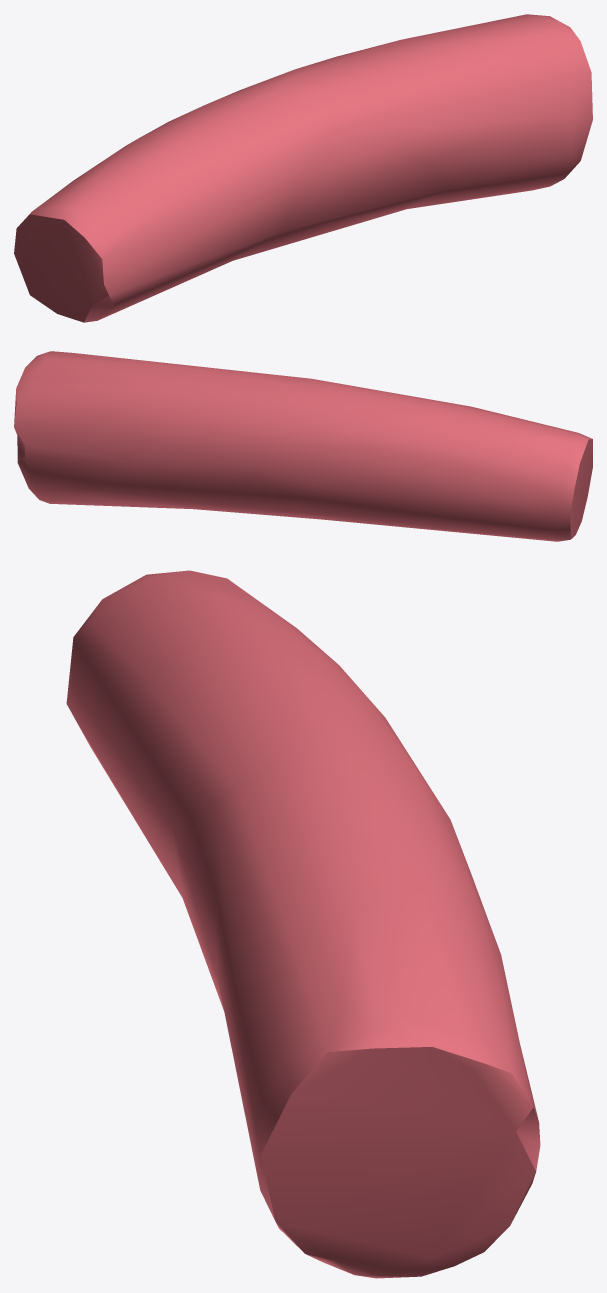
The model's file is fma8627_fj6068.glb.
3 views of the same model, one above another, from view 1: azimuth 30°, elevation 25°; view 2: azimuth 150°, elevation 25°; view 3: azimuth 270°, elevation 25° (orthographic). The views are drawn at different scales.
Parts seen in each view (by area): view 1: FMA8627_FJ6068; view 2: FMA8627_FJ6068; view 3: FMA8627_FJ6068.
Part boxes in pixels (x1,y1,x2,y2): FMA8627_FJ6068: (14, 14, 592, 322); FMA8627_FJ6068: (14, 351, 592, 541); FMA8627_FJ6068: (66, 570, 540, 1278).
Size of the model in its own units: 0.0106 by 0.00306 by 0.00426.
